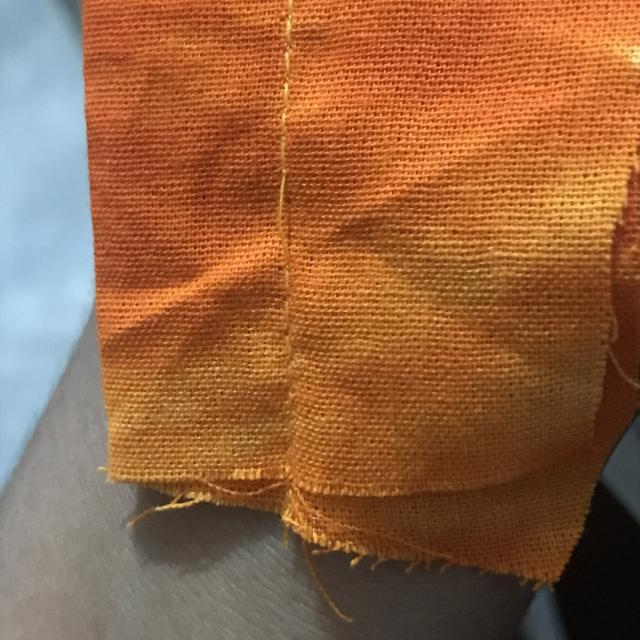skip: (248, 154, 319, 277)
